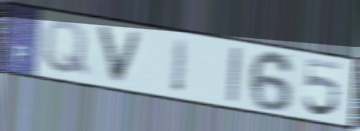5: (301, 56, 343, 118)
6: (247, 48, 297, 113)
I: (169, 35, 192, 95), (225, 45, 244, 105)
Q: (41, 19, 91, 79)
V: (95, 22, 147, 87)
